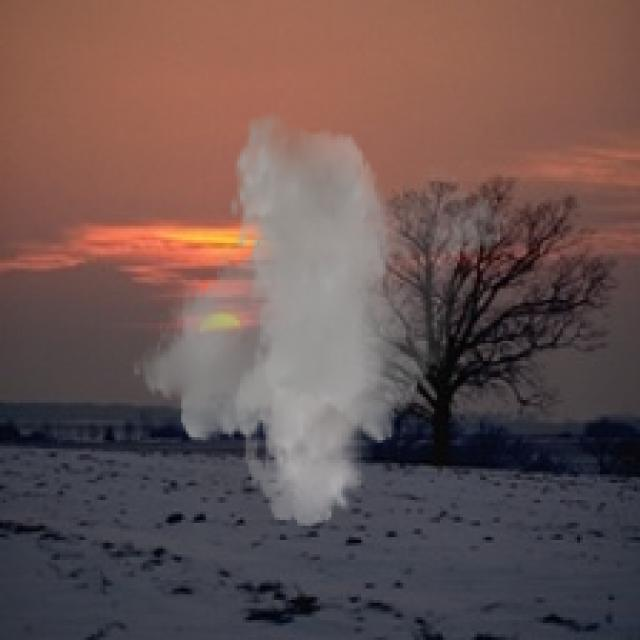Smoke: (132, 111, 512, 528)
